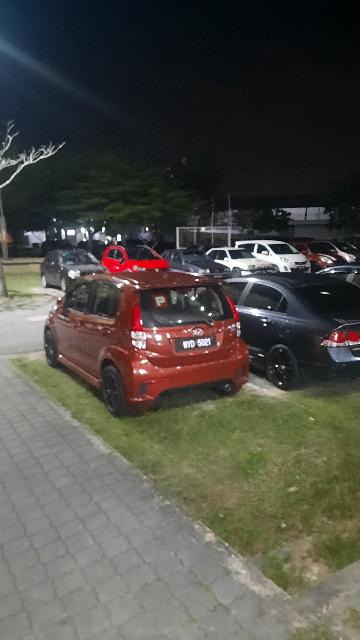License_Plate: (176, 335, 223, 353)
car: (43, 269, 251, 417), (216, 271, 360, 391)
